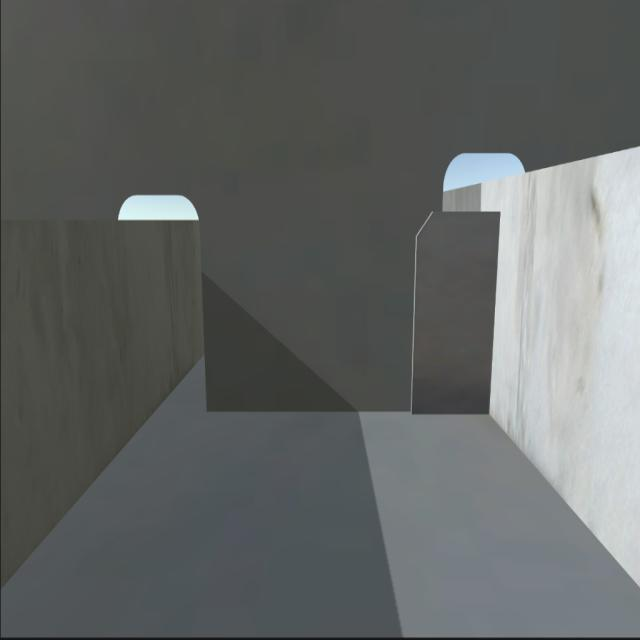fillet_yong_jeop_jang: (204, 398, 489, 426)
longi_yong_jeop_jang: (488, 207, 506, 422)
plate_CP03: (414, 201, 499, 413)
